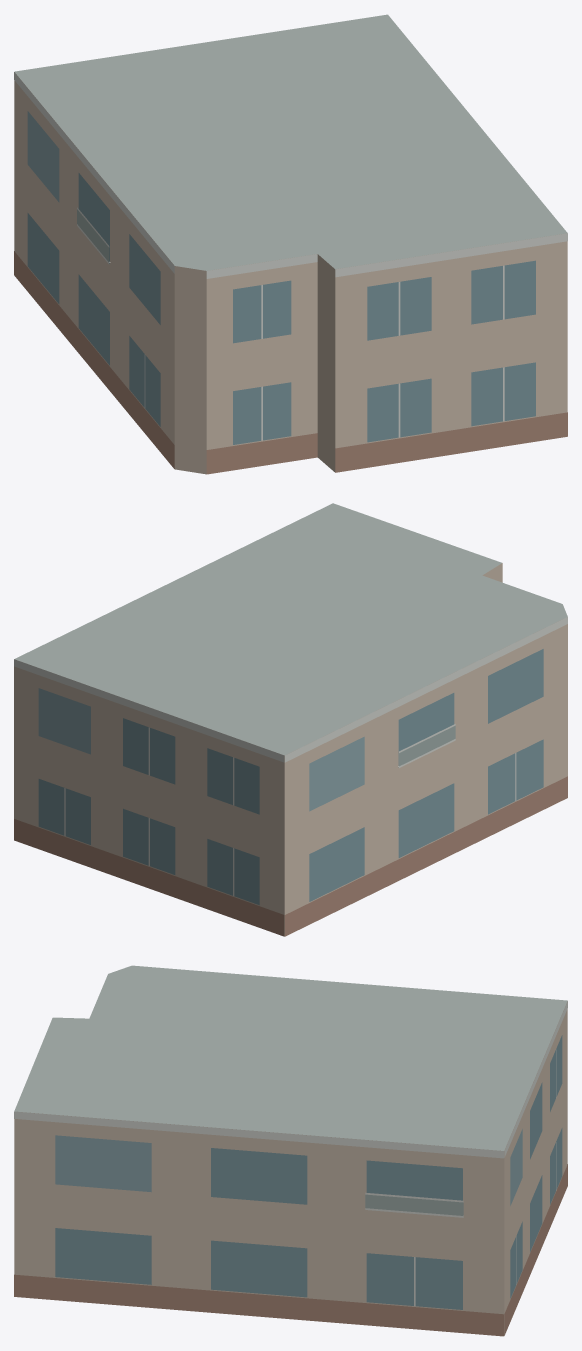
The model's file is survey-upis-32690099.glb.
The picture shows the model from 3 angles, top to bottom: view 1: azimuth 30°, elevation 25°; view 2: azimuth 150°, elevation 25°; view 3: azimuth 270°, elevation 25°; orthographic projection. The views are drawn at different scales.
Parts seen in each view (by area): view 1: survey-upis-32690099.tmp; view 2: survey-upis-32690099.tmp; view 3: survey-upis-32690099.tmp.
Part boxes in pixels (x1,y1,x2,y2): survey-upis-32690099.tmp: (14,14,567,474); survey-upis-32690099.tmp: (14,503,567,936); survey-upis-32690099.tmp: (14,965,567,1336).
Size of the model in its own units: 13.11 by 6.1 by 16.52.
